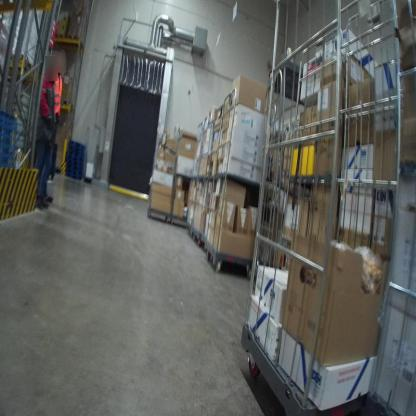pallet: (51, 29, 68, 50), (68, 32, 84, 48), (58, 97, 72, 112)
